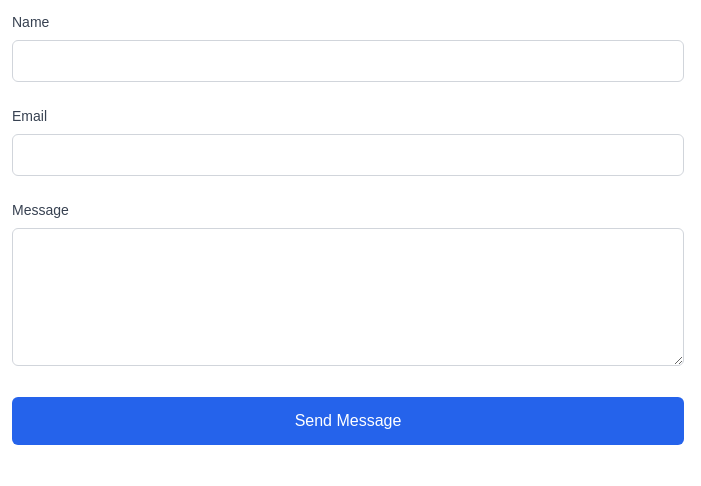
Test: ContactForm Component › should display validation error when email is invalid
The width and height of the screenshot is (701, 486).
Type "John Doe" into the field labelled "Name" at point(348, 61), box [12,40,684,82]
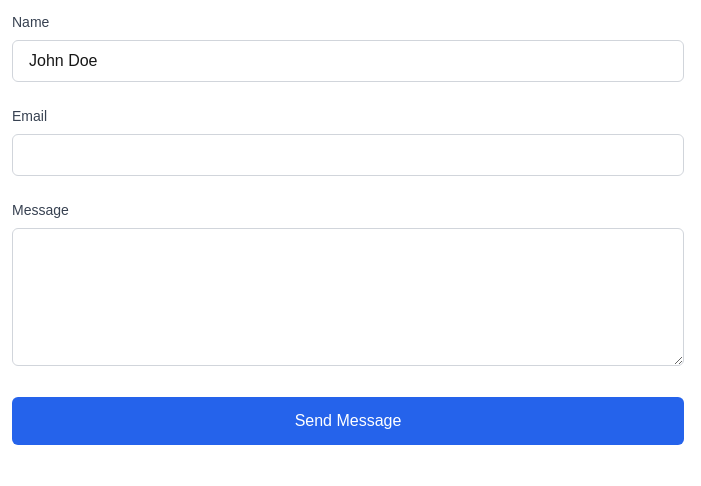
Type "invalid-email" into the field labelled "Email" at point(348, 155), box [12,134,684,176]
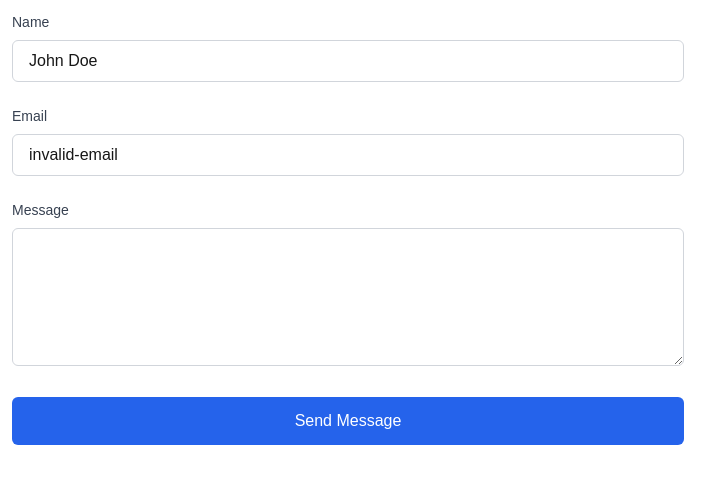
Type "Test message" into the text box labelled "Message" at point(348, 297), box [12,228,684,366]
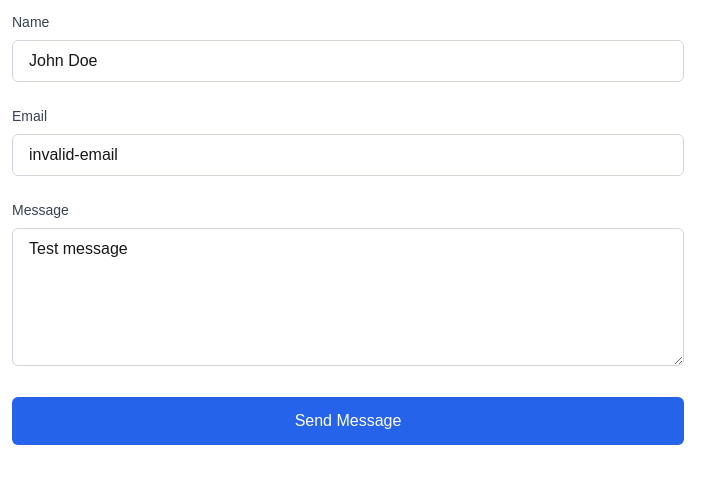
Click the button "Send Message" at point(348, 421), box [12,397,684,445]
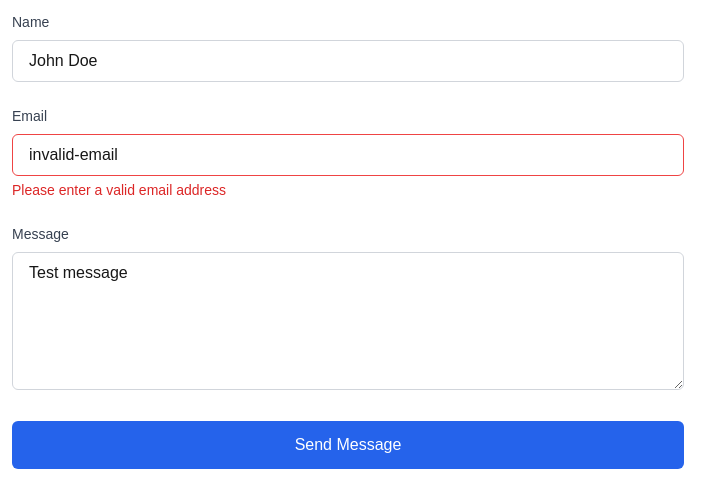
Result: the text "Please enter a valid email address" is shown at [12,182,226,198]
